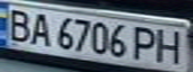0: (90, 19, 112, 56)
6: (109, 21, 133, 59), (51, 15, 75, 51)
7: (69, 17, 93, 53)
A: (24, 11, 54, 47)
B: (0, 7, 36, 43)
H: (151, 26, 187, 64)
P: (130, 25, 160, 62)
